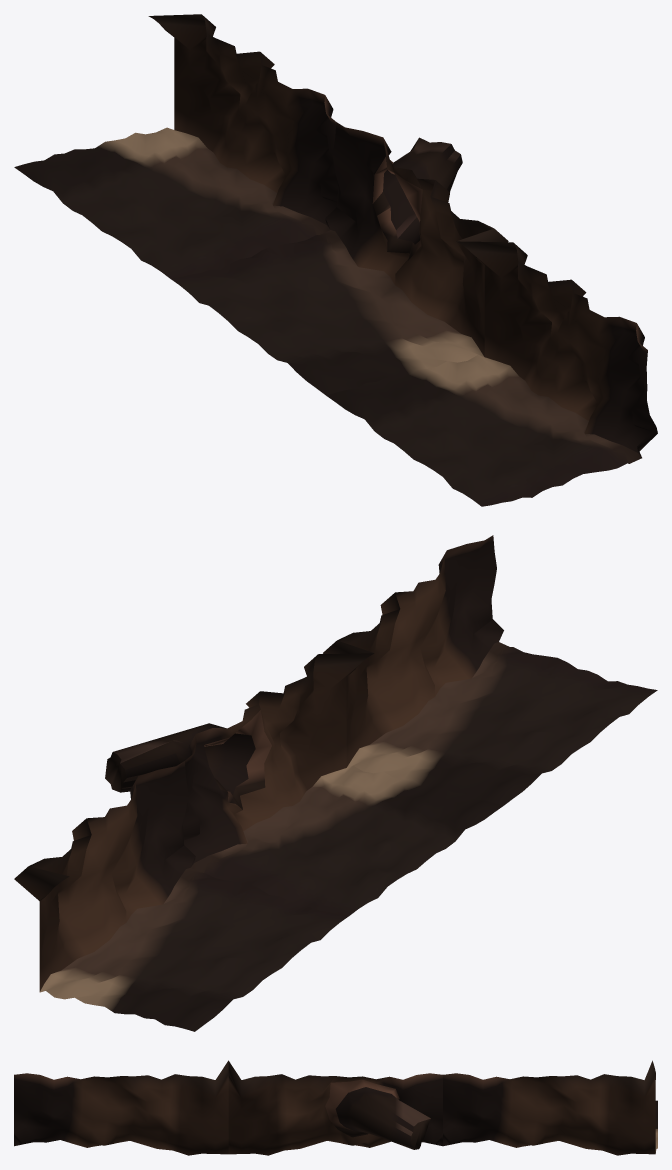
Rendered from Tunnel_1.fbx.
3 views of the same model, one above another, from view 1: azimuth 30°, elevation 25°; view 2: azimuth 150°, elevation 25°; view 3: azimuth 270°, elevation 25° (orthographic). The views are drawn at different scales.
Visible parts, largest first — view 1: Plane.007, Plane.008, Plane.005; view 2: Plane.007, Plane.005, Plane.008; view 3: Plane.007, Plane.008, Plane.005.
Part boxes in pixels (<box>): Plane.007: <box>170,122,508,395</box>; Plane.008: <box>326,241,657,506</box>; Plane.005: <box>14,14,338,278</box>; Plane.007: <box>105,653,503,915</box>; Plane.005: <box>14,761,348,1031</box>; Plane.008: <box>323,535,657,805</box>; Plane.007: <box>228,1061,442,1155</box>; Plane.008: <box>14,1060,228,1155</box>; Plane.005: <box>443,1060,657,1155</box>.
Bounding box in the file's own units: 4487 × 1963 × 13508.
